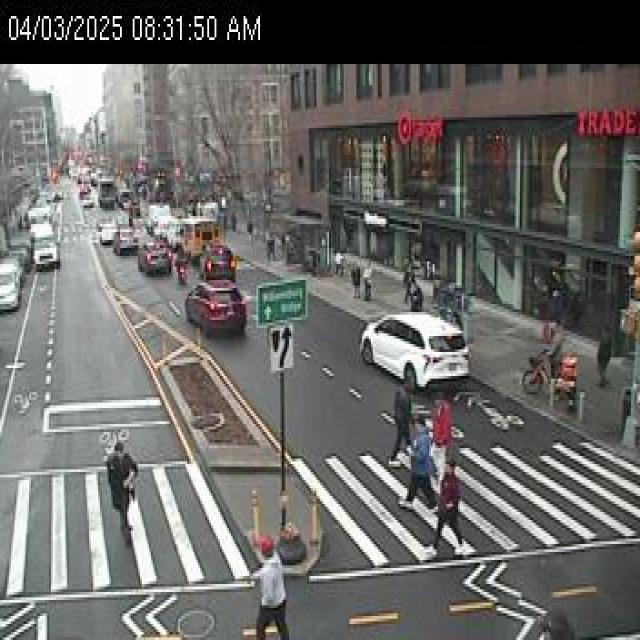parkedCars: (0, 207, 32, 306)
